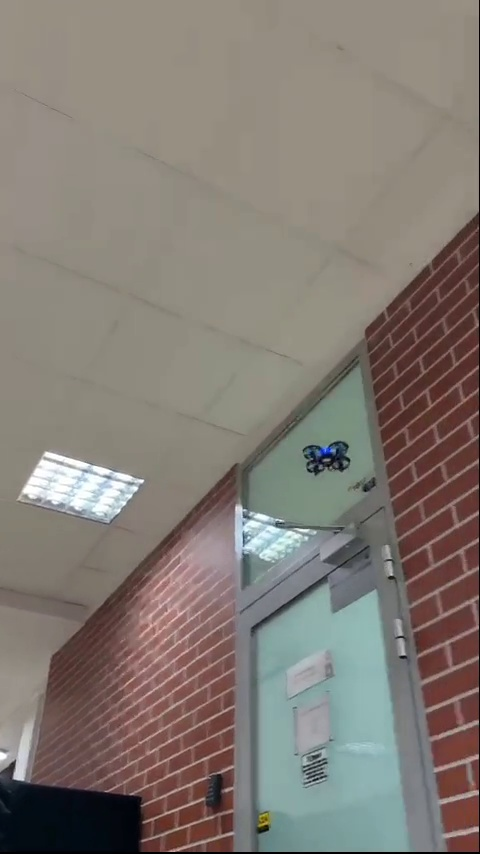drone: (295, 433, 354, 479)
